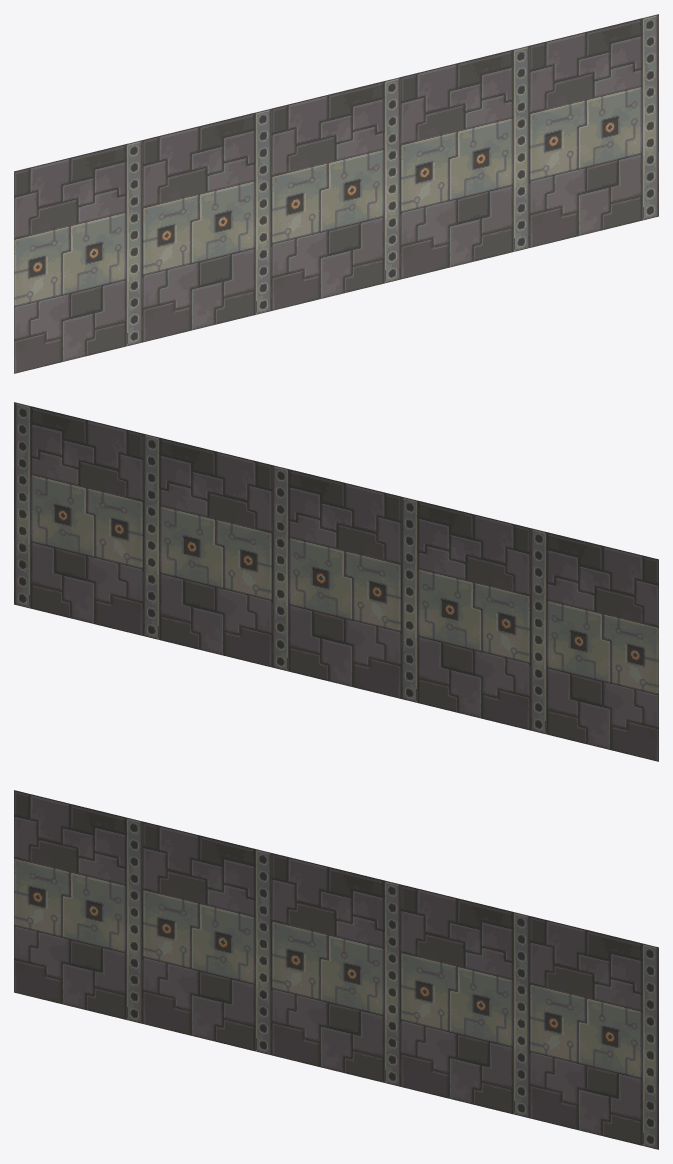
Rendered from Wall1-5.fbx.
3 views of the same model, one above another, from view 1: azimuth 30°, elevation 25°; view 2: azimuth 150°, elevation 25°; view 3: azimuth 330°, elevation 25° (orthographic).
Parts seen in each view (by area): view 1: Wall1-5; view 2: Wall1-5; view 3: Wall1-5.
Boxes of the visible parts, bbox=[...] form: Wall1-5: bbox=[14, 14, 658, 373]; Wall1-5: bbox=[14, 402, 658, 761]; Wall1-5: bbox=[14, 790, 658, 1149].
Size of the model in its own units: 20 by 6 by 8.9e-07.
1 material, 1 textured.
